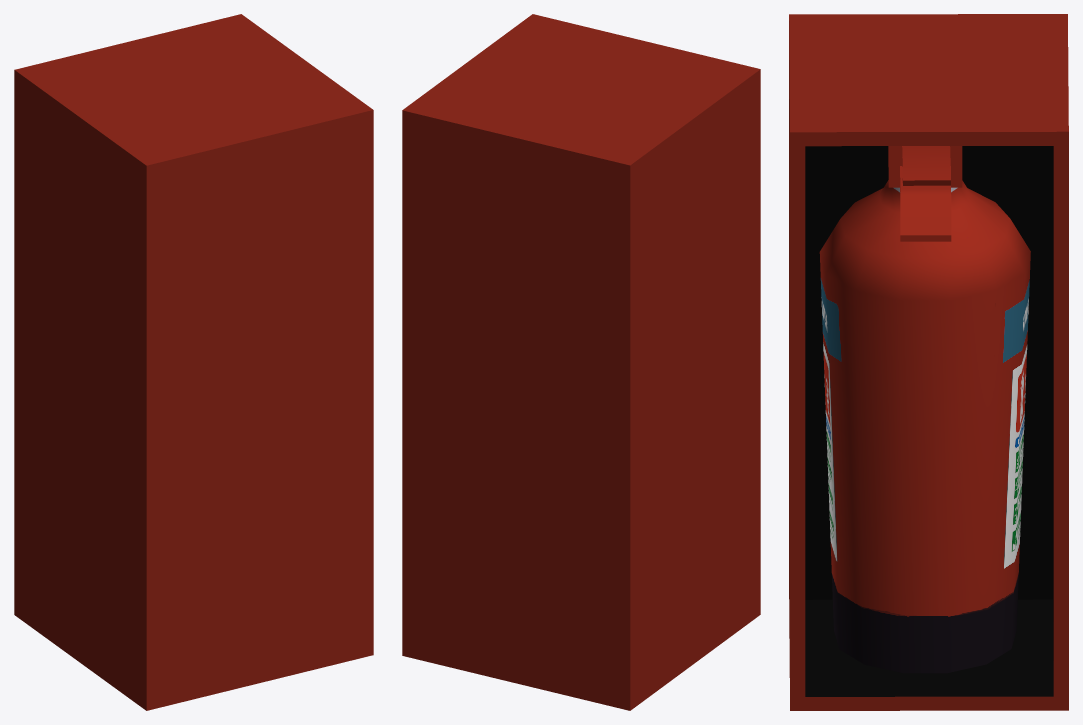
File: fire extinguisher.fbx
3 renders of one model, left to right at view 1: azimuth 30°, elevation 25°; view 2: azimuth 150°, elevation 25°; view 3: azimuth 270°, elevation 25°, orthographic. The views are drawn at different scales.
Parts seen in each view (by area): view 1: fire_extinguisher_box; view 2: fire_extinguisher_box; view 3: fire_extinguisher_box, fire_extinguisher.
Boxes of the visible parts, left/top/right/bottom form: fire_extinguisher_box: left=14, top=14, right=373, bottom=710; fire_extinguisher_box: left=402, top=14, right=760, bottom=710; fire_extinguisher_box: left=789, top=14, right=1068, bottom=710; fire_extinguisher: left=819, top=146, right=1030, bottom=673.
Bounding box in the file's own units: 62.99 × 139 × 60.68.
Materials: 2 (2 with a texture image).
